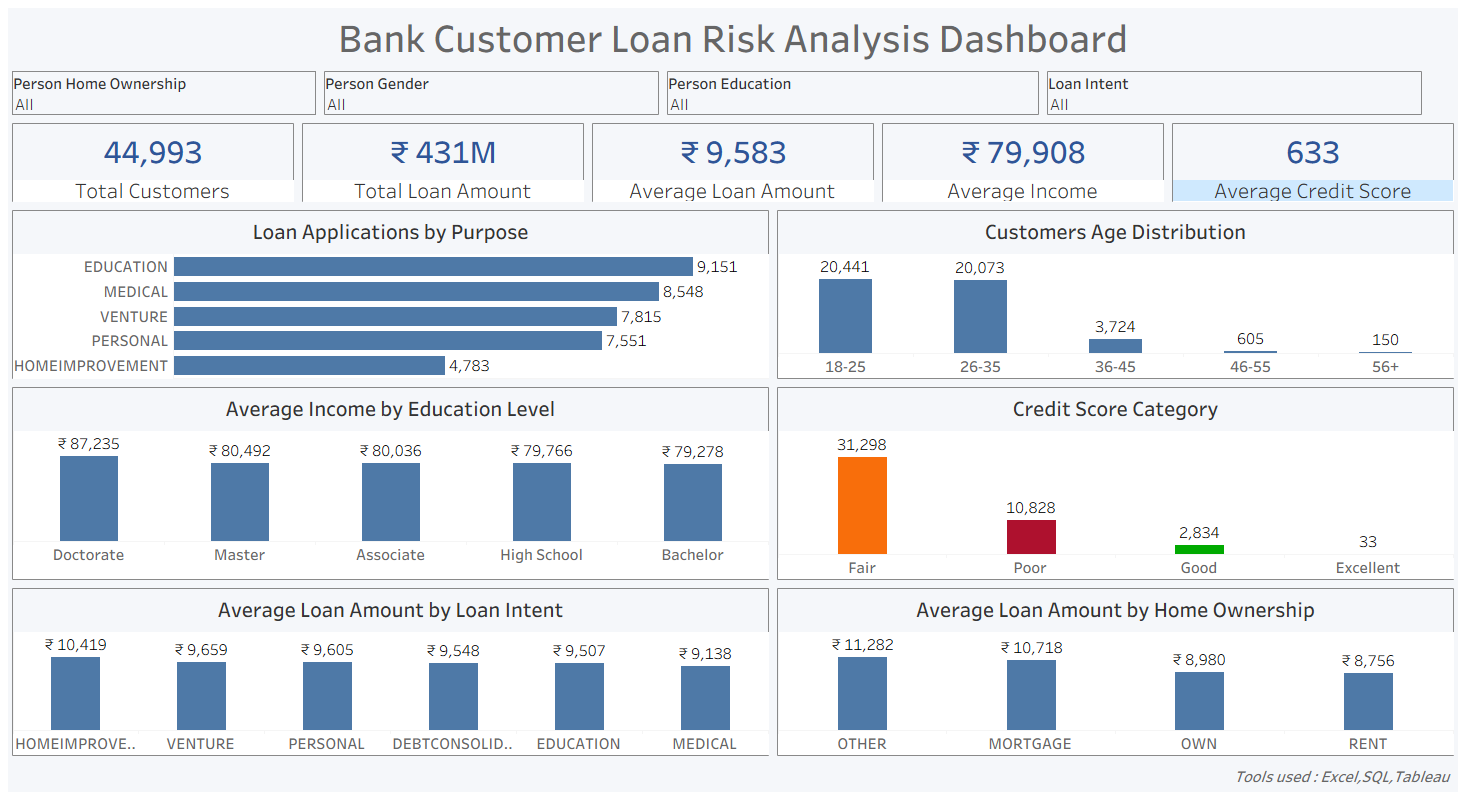

The dashboard page shown, as its layout file describes it:
{"tool":"tableau","page":{"name":"Bank Customer Loan Risk Analysis Dashboard","canvas":[1466,800],"ordinal":0},"visuals":[{"type":"text","box":[8,8,1450,59]},{"type":"filter","title":"Average Loan Amount by Home Ownerhip","param":"[federated.1j8vr6a02nst8a16dlrlo1k98rj2].[none:person_home_ownership:nk]","box":[8,67,312,52]},{"type":"filter","title":"Average Loan Amount by Home Ownerhip","param":"[federated.1j8vr6a02nst8a16dlrlo1k98rj2].[none:person_gender:nk]","box":[320,67,343,52]},{"type":"filter","title":"Average Loan Amount by Home Ownerhip","param":"[federated.1j8vr6a02nst8a16dlrlo1k98rj2].[none:person_education:nk]","box":[663,67,380,52]},{"type":"filter","title":"Average Income by Education Level","param":"[federated.1j8vr6a02nst8a16dlrlo1k98rj2].[none:loan_intent:nk]","box":[1043,67,383,52]},{"type":"worksheet","title":"Total Customers","mark":"Automatic","box":[8,119,290,87.1]},{"type":"worksheet","title":"Total Loan Amount","mark":"Automatic","box":[298,119,290,87.1]},{"type":"worksheet","title":"Average Loan amount","mark":"Automatic","box":[588,119,290,87.1]},{"type":"worksheet","title":"Average Income","mark":"Automatic","box":[878,119,290,87.1]},{"type":"worksheet","title":"Average Credit Score","mark":"Automatic","box":[1168,119,290,87.1]},{"type":"worksheet","title":"Loan Applications by Purpose","mark":"Automatic","rows":["loan_intent"],"cols":["loan_intent"],"box":[8,206.1,765,176.9]},{"type":"worksheet","title":"Customers Age Distribution","mark":"Automatic","rows":["Calculation_1098437326729216"],"cols":["Calculation_1098437326729216"],"box":[773,206.1,685,176.9]},{"type":"worksheet","title":"Average Income by Education Level","mark":"Automatic","rows":["person_income"],"cols":["person_education"],"box":[8,383,765,201]},{"type":"worksheet","title":"Credit Score Category","mark":"Automatic","rows":["credit_score"],"cols":["Calculation_1098437331943425"],"box":[773,383,685,201]},{"type":"worksheet","title":"Average Loan Amount by Loan Intent","mark":"Automatic","rows":["loan_amnt"],"cols":["loan_intent"],"box":[8,584,765,176]},{"type":"worksheet","title":"Average Loan Amount by Home Ownerhip","mark":"Automatic","rows":["loan_amnt"],"cols":["person_home_ownership"],"box":[773,584,685,176]},{"type":"text","box":[8,760,1450,32]}]}

Visuals, with their boxes in screenshot pixels (x1, y1, x2, y2), scaled from the page's 1466x800 canvas onto the 1466x800 screenshot:
text: [8,8,1458,67]
"Average Loan Amount by Home Ownerhip" filter: [8,67,320,119]
"Average Loan Amount by Home Ownerhip" filter: [320,67,663,119]
"Average Loan Amount by Home Ownerhip" filter: [663,67,1043,119]
"Average Income by Education Level" filter: [1043,67,1426,119]
"Total Customers" worksheet: [8,119,298,206]
"Total Loan Amount" worksheet: [298,119,588,206]
"Average Loan amount" worksheet: [588,119,878,206]
"Average Income" worksheet: [878,119,1168,206]
"Average Credit Score" worksheet: [1168,119,1458,206]
"Loan Applications by Purpose" worksheet: [8,206,773,383]
"Customers Age Distribution" worksheet: [773,206,1458,383]
"Average Income by Education Level" worksheet: [8,383,773,584]
"Credit Score Category" worksheet: [773,383,1458,584]
"Average Loan Amount by Loan Intent" worksheet: [8,584,773,760]
"Average Loan Amount by Home Ownerhip" worksheet: [773,584,1458,760]
text: [8,760,1458,792]
